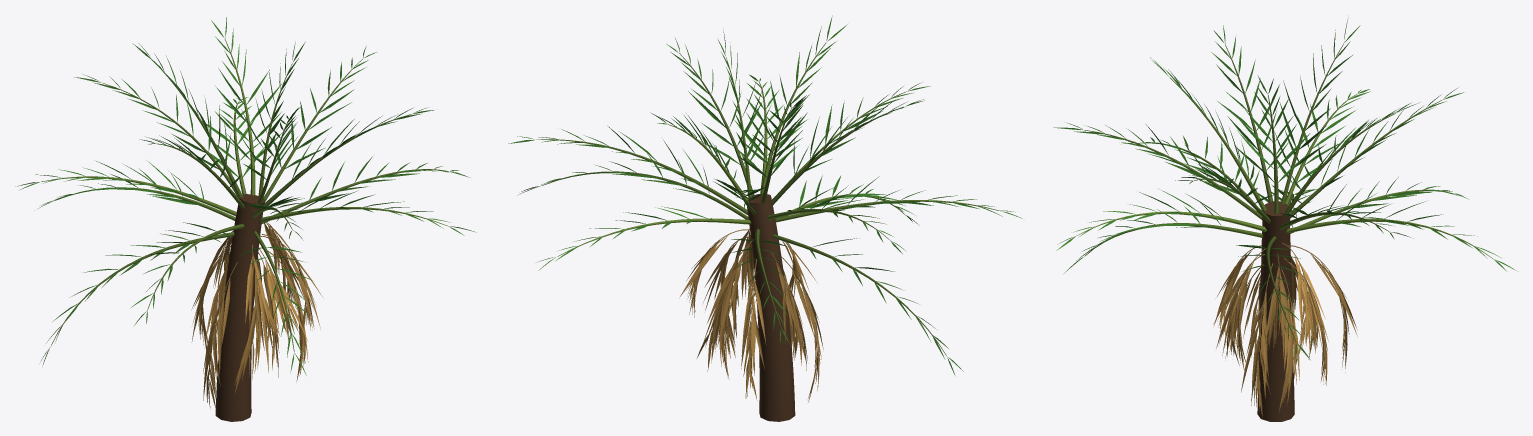
File: date-palm.glb
3 renders of one model, left to right at view 1: azimuth 30°, elevation 25°; view 2: azimuth 150°, elevation 25°; view 3: azimuth 270°, elevation 25°, orthographic.
Visible parts, largest first — view 1: date-palm; view 2: date-palm; view 3: date-palm.
Part boxes in pixels (box(x1,y1,x2,y2)): date-palm: box(15, 17, 475, 421); date-palm: box(508, 15, 1022, 421); date-palm: box(1053, 18, 1517, 421).
Size of what is drawn, in the model's own units: 6.18 by 4.93 by 5.59.
